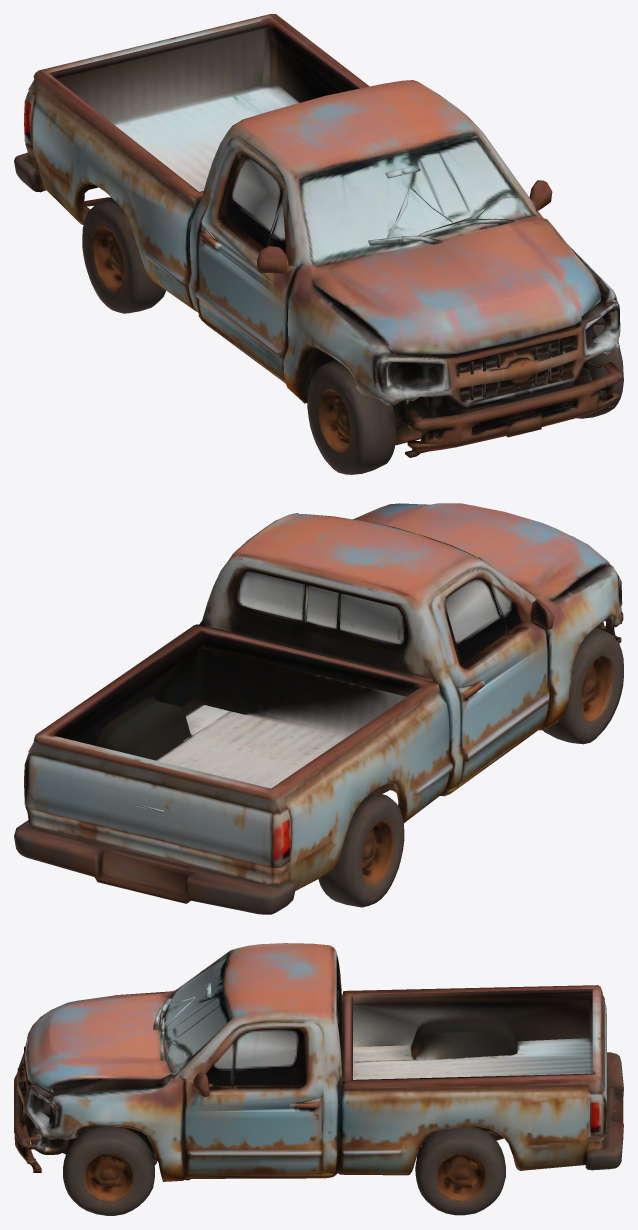
File: rusty_crashed_pickup_truck_3820a2c5_v1.glb
3 renders of one model, top to bottom at view 1: azimuth 30°, elevation 25°; view 2: azimuth 150°, elevation 25°; view 3: azimuth 270°, elevation 25°, orthographic. The views are drawn at different scales.
Parts seen in each view (by area): view 1: material; view 2: material; view 3: material.
Part boxes in pixels (x1,y1,x2,y2): material: (14,14,623,474); material: (14,503,623,914); material: (14,943,623,1215).
Bounding box in the file's own units: 0.8339 × 0.6659 × 1.9.
1 material, 1 textured.
